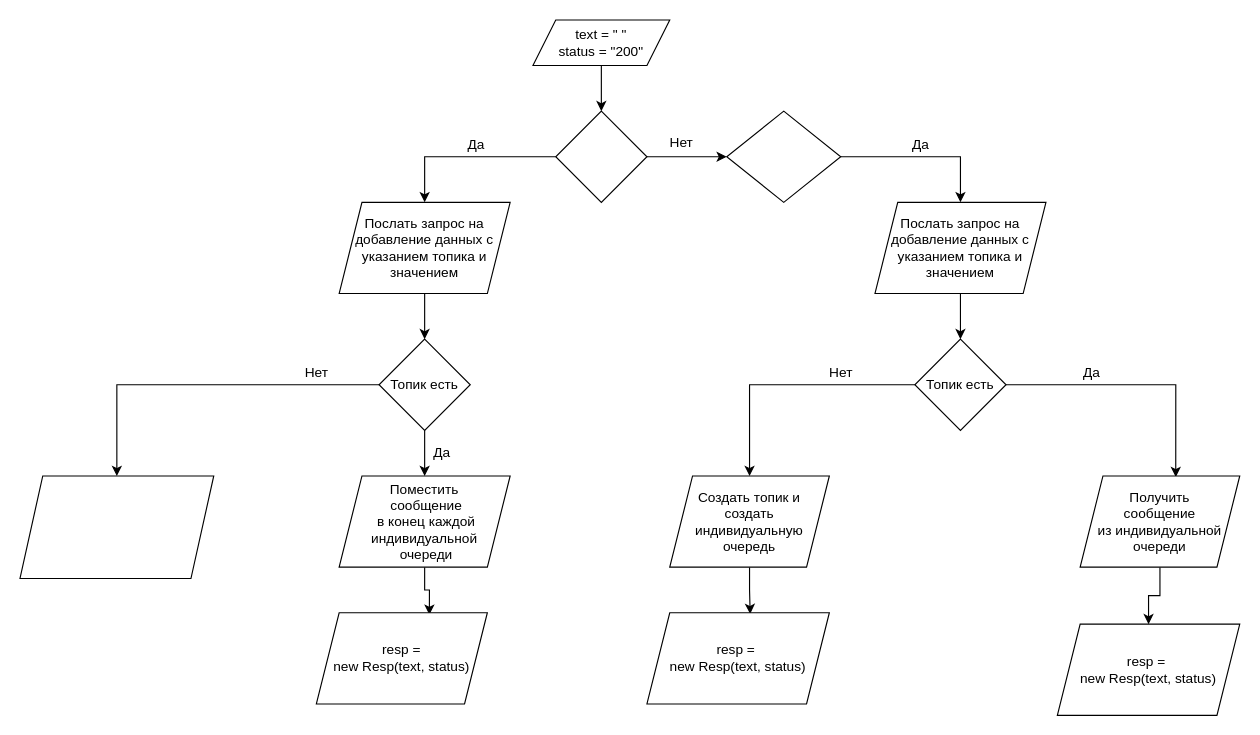
Some shapes in this 1260 by 735 pixel diagram are drawn without their labels. Each missing label, with the centre of its shape:
GET: [783,156]
Post: [601,156]
resp = new Resp(text, "240"): [116,527]
